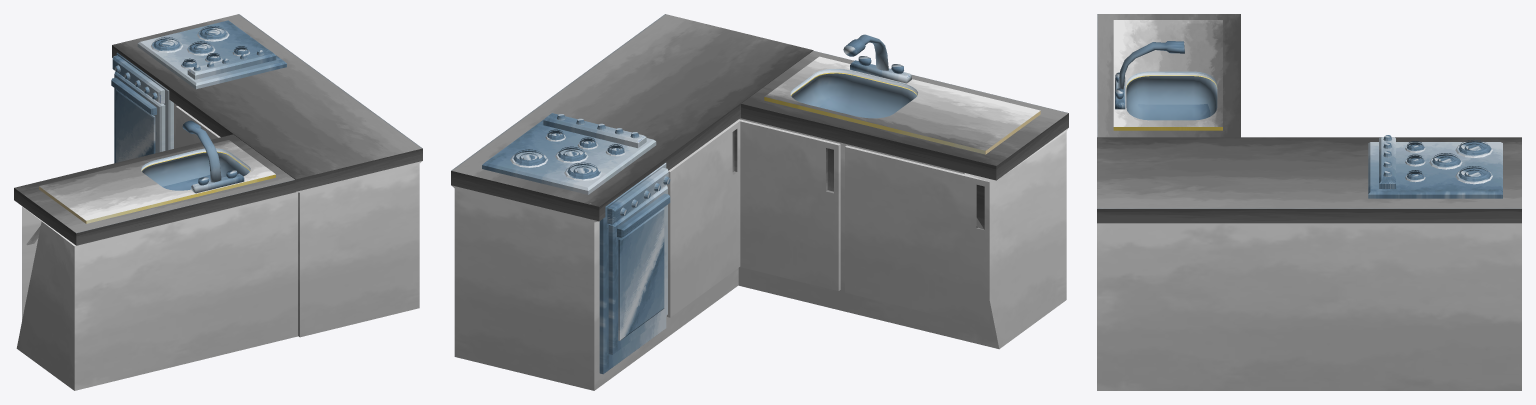
Rendered from Obj_KitchenCounter.gltf.
The picture shows the model from 3 angles, left to right: view 1: azimuth 30°, elevation 25°; view 2: azimuth 150°, elevation 25°; view 3: azimuth 270°, elevation 25°; orthographic projection. The views are drawn at different scales.
Parts seen in each view (by area): view 1: Obj.KitchenCounter; view 2: Obj.KitchenCounter; view 3: Obj.KitchenCounter.
Part boxes in pixels (x1,y1,x2,y2): Obj.KitchenCounter: (14,14,422,390); Obj.KitchenCounter: (451,14,1068,390); Obj.KitchenCounter: (1097,14,1521,390).
Bounding box in the file's own units: 3.73 × 2.14 × 3.42.
1 material, 1 textured.
